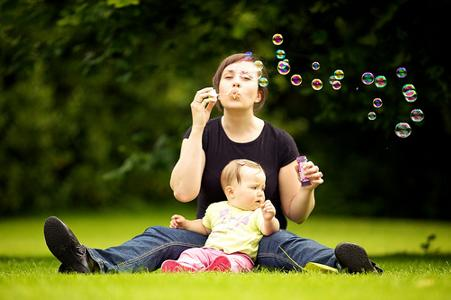person: (41, 50, 394, 284)
